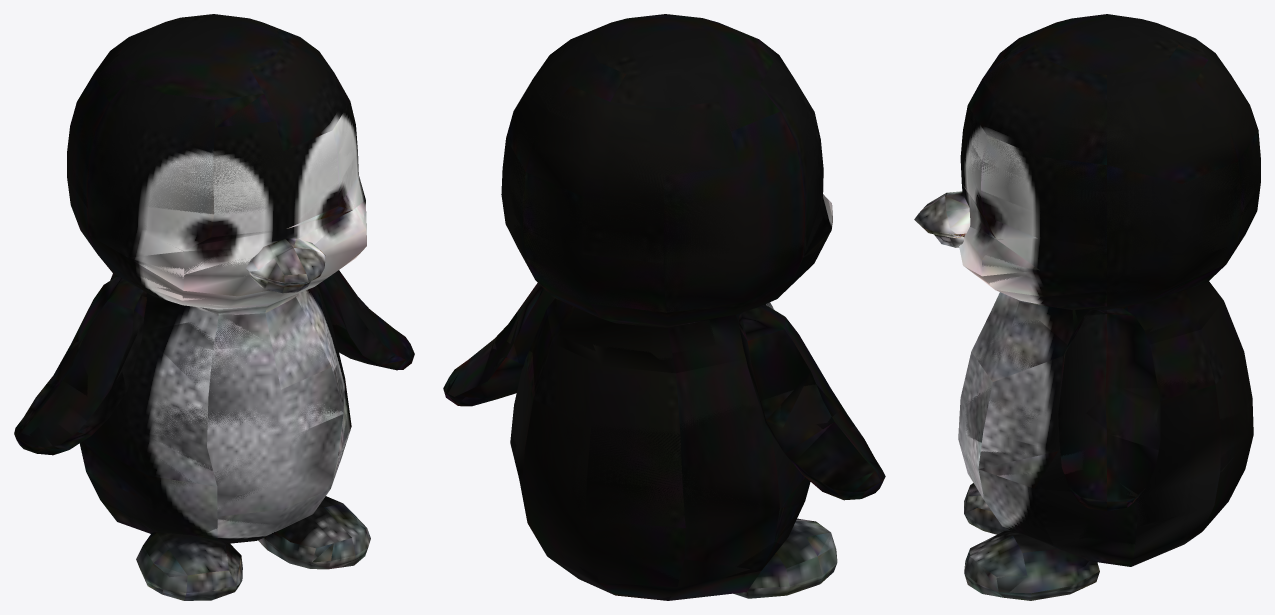
The model's file is penguin-05-42-glitter-belly-vinyl-penguin.gltf.
The picture shows the model from 3 angles, left to right: view 1: azimuth 30°, elevation 25°; view 2: azimuth 150°, elevation 25°; view 3: azimuth 270°, elevation 25°; orthographic projection. The views are drawn at different scales.
Visible parts, largest first — view 1: penguin-05-42-glitter-belly-vinyl-penguin; view 2: penguin-05-42-glitter-belly-vinyl-penguin; view 3: penguin-05-42-glitter-belly-vinyl-penguin.
Boxes of the visible parts, x1=… form: penguin-05-42-glitter-belly-vinyl-penguin: x1=14, y1=14, x2=414, y2=600; penguin-05-42-glitter-belly-vinyl-penguin: x1=443, y1=14, x2=885, y2=600; penguin-05-42-glitter-belly-vinyl-penguin: x1=914, y1=14, x2=1260, y2=600.
Size of the model in its own units: 0.2 by 0.2455 by 0.1488.
Materials: 1 (1 with a texture image).
